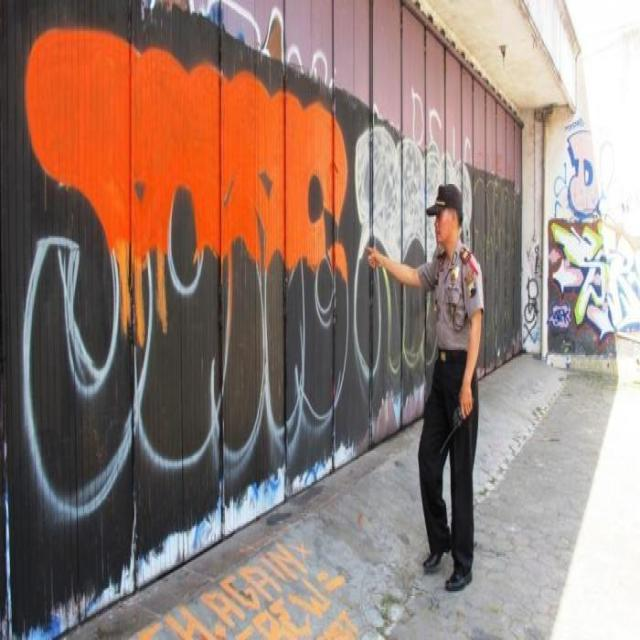nonspitting: (24, 24, 350, 524), (353, 120, 473, 378), (135, 542, 356, 640), (550, 215, 640, 337), (568, 128, 615, 216), (522, 274, 541, 346)
